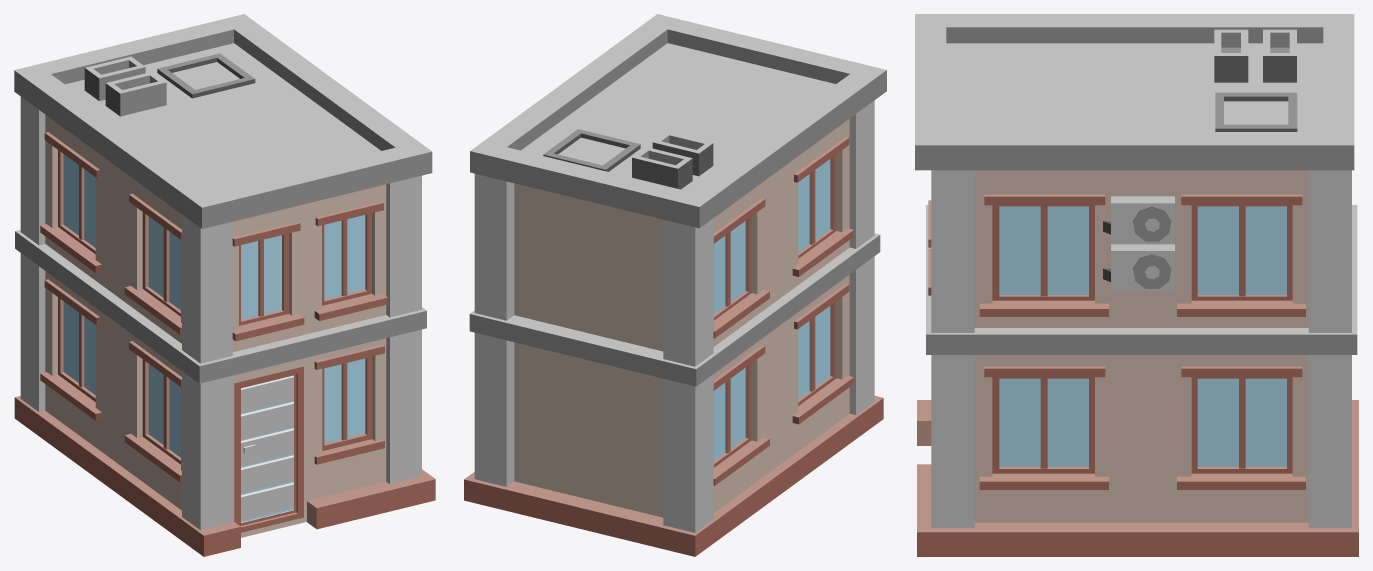
The model's file is house_small_1_008.fbx.
3 views of the same model, side by side, from view 1: azimuth 30°, elevation 25°; view 2: azimuth 150°, elevation 25°; view 3: azimuth 270°, elevation 25° (orthographic). The views are drawn at different scales.
Visible parts, largest first — view 1: house_small_1_008; view 2: house_small_1_008; view 3: house_small_1_008.
Part boxes in pixels (<box>): house_small_1_008: <box>14,14,435,556</box>; house_small_1_008: <box>464,14,886,556</box>; house_small_1_008: <box>915,14,1358,556</box>.
Size of the model in its own units: 409 by 599 by 574.
